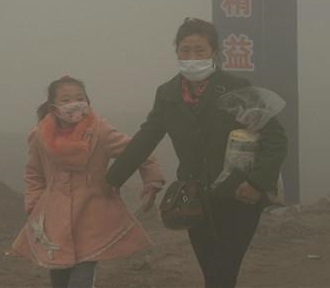person: (105, 14, 299, 288), (4, 74, 167, 288)
